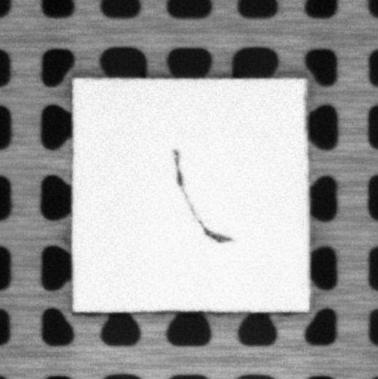DIE_INK: (170, 148, 232, 244)
